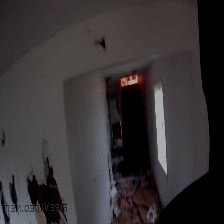fire: (117, 68, 145, 93)
